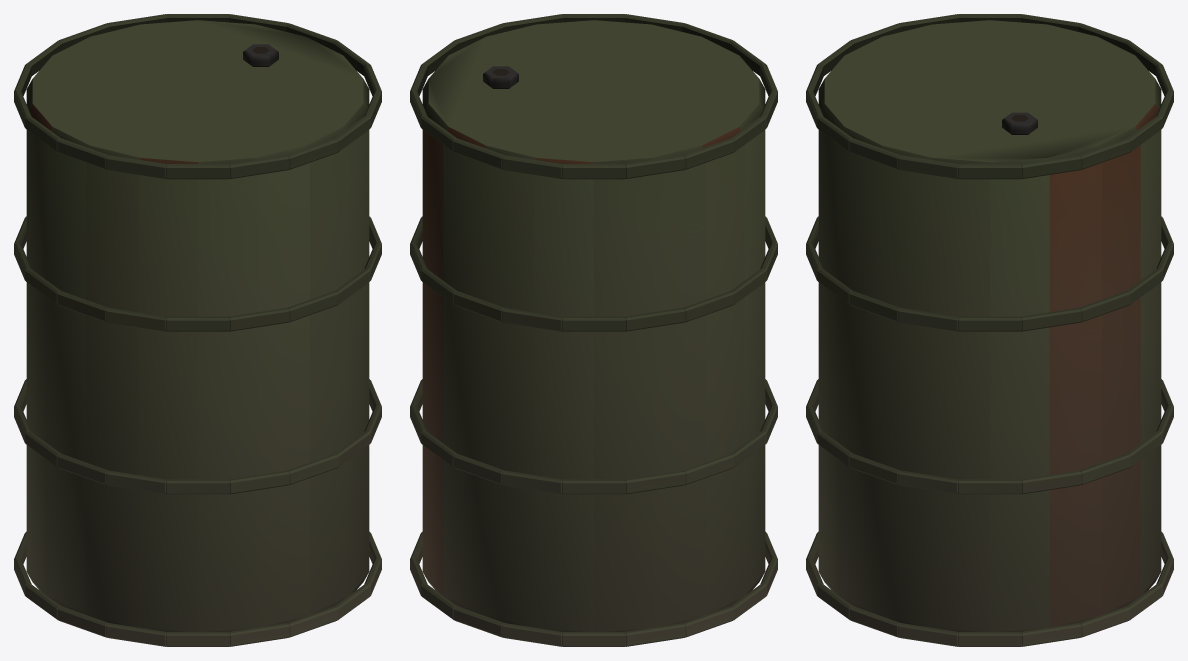
The model's file is drum_0.glb.
3 renders of one model, left to right at view 1: azimuth 30°, elevation 25°; view 2: azimuth 150°, elevation 25°; view 3: azimuth 270°, elevation 25°, orthographic.
Visible parts, largest first — view 1: dark-001; view 2: dark-001; view 3: dark-001.
Part boxes in pixels (bbox=[...]): dark-001: bbox=[14, 14, 381, 646]; dark-001: bbox=[410, 14, 777, 646]; dark-001: bbox=[806, 14, 1173, 646].
Bounding box in the file's own units: 0.604 × 0.9025 × 0.6128.
